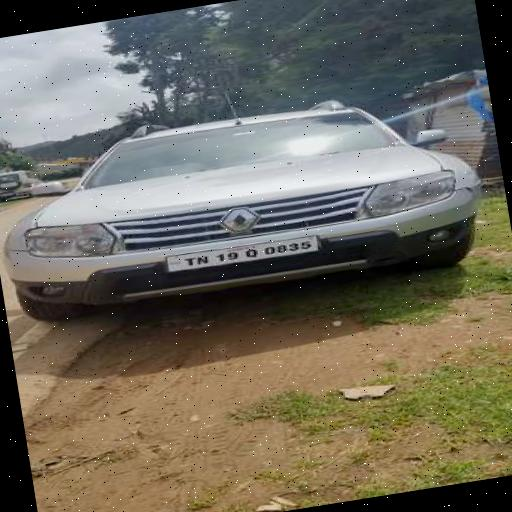license_plate`: (163, 234, 316, 273)
